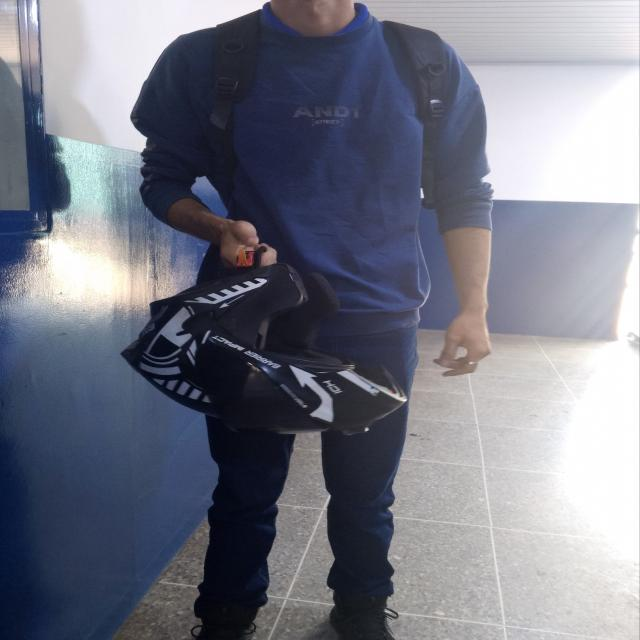pantalon_oscuro: (193, 327, 420, 625)
